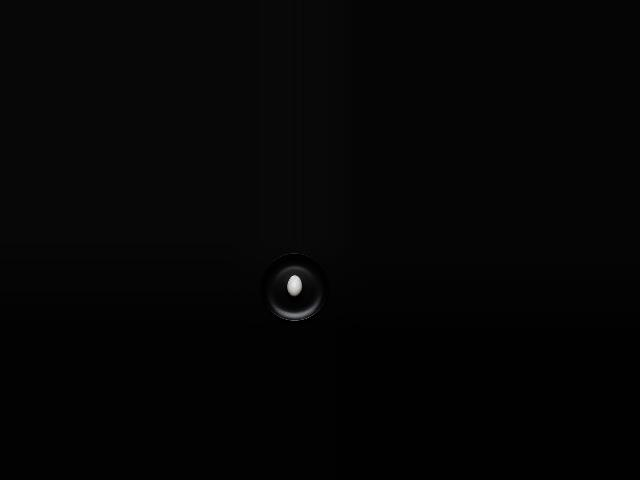egg: (286, 275, 301, 297)
